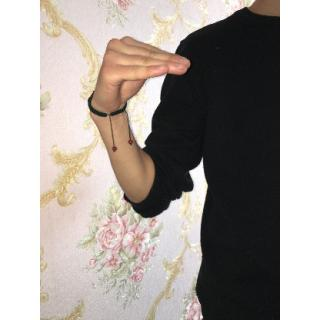HAA: (86, 31, 195, 116)
